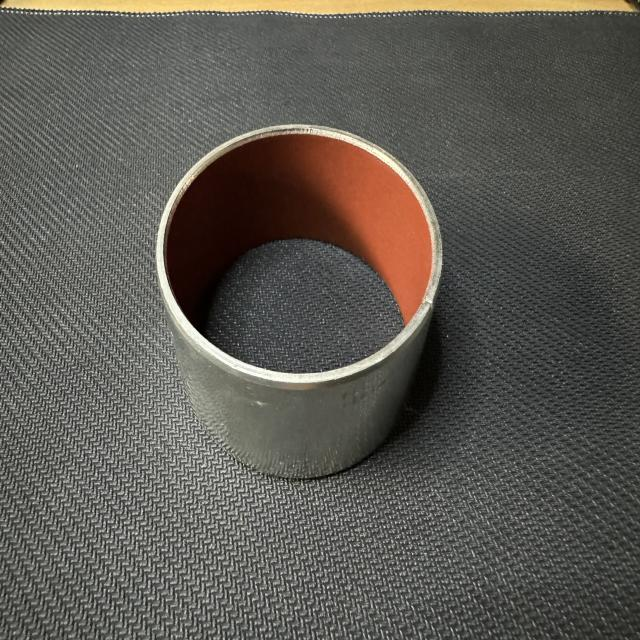metal-ring: (154, 125, 445, 484)
